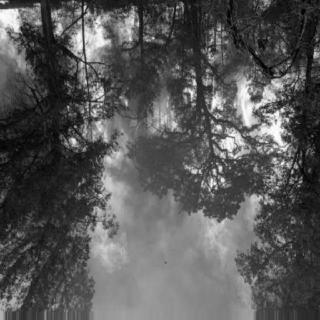Fire: (202, 22, 294, 215), (76, 11, 127, 268)
